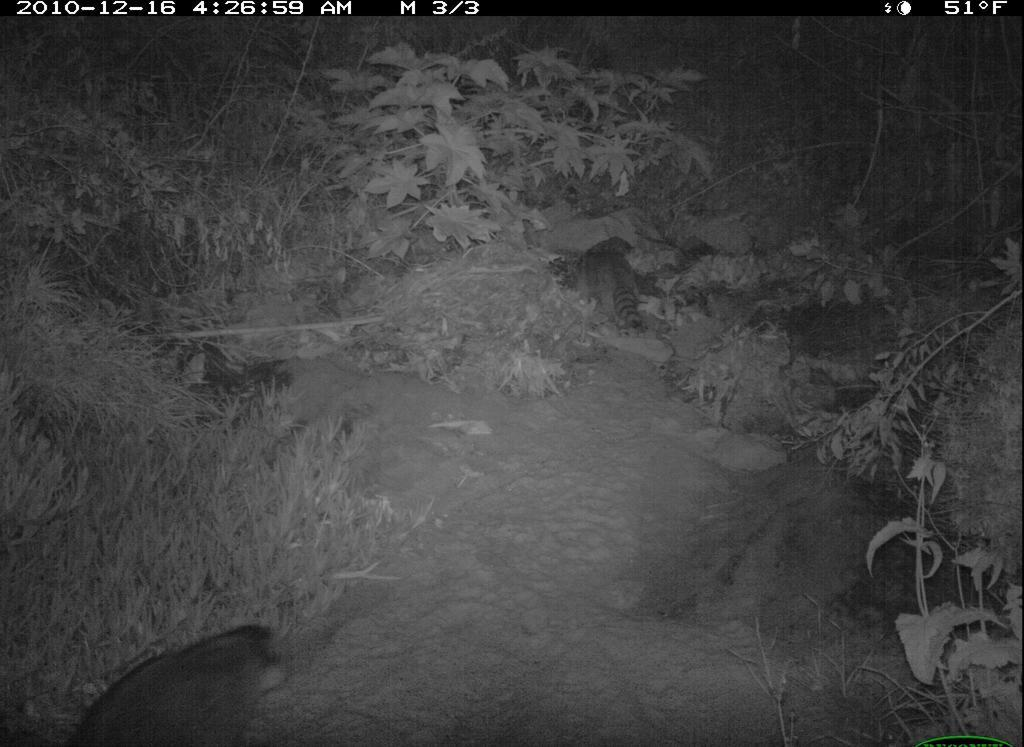raccoon: (61, 619, 286, 747), (565, 241, 662, 345)
